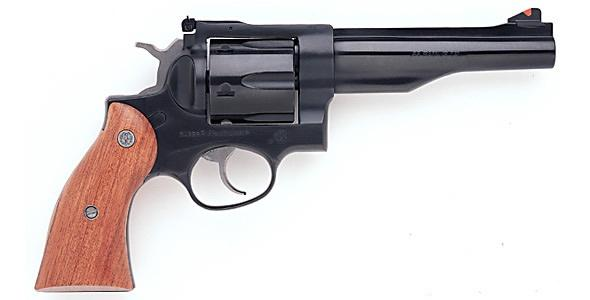gun: (10, 1, 582, 300)
